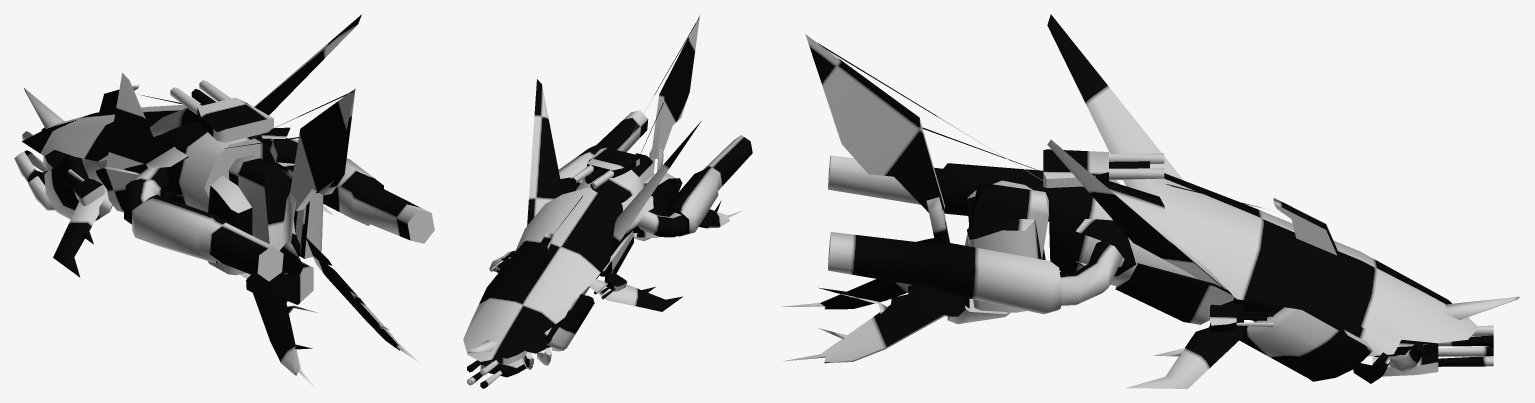
The model's file is barracuda.obj.
3 views of the same model, side by side, from view 1: azimuth 30°, elevation 25°; view 2: azimuth 150°, elevation 25°; view 3: azimuth 270°, elevation 25° (orthographic). The views are drawn at different scales.
Parts seen in each view (by area): view 1: barracuda; view 2: barracuda; view 3: barracuda.
Boxes of the visible parts, left/top/right/bottom form: barracuda: left=14, top=14, right=434, bottom=388; barracuda: left=463, top=15, right=752, bottom=388; barracuda: left=782, top=14, right=1520, bottom=388.
Bounding box in the file's own units: 1.74 × 2.02 × 4.11.
Materials: 1 (1 with a texture image).
